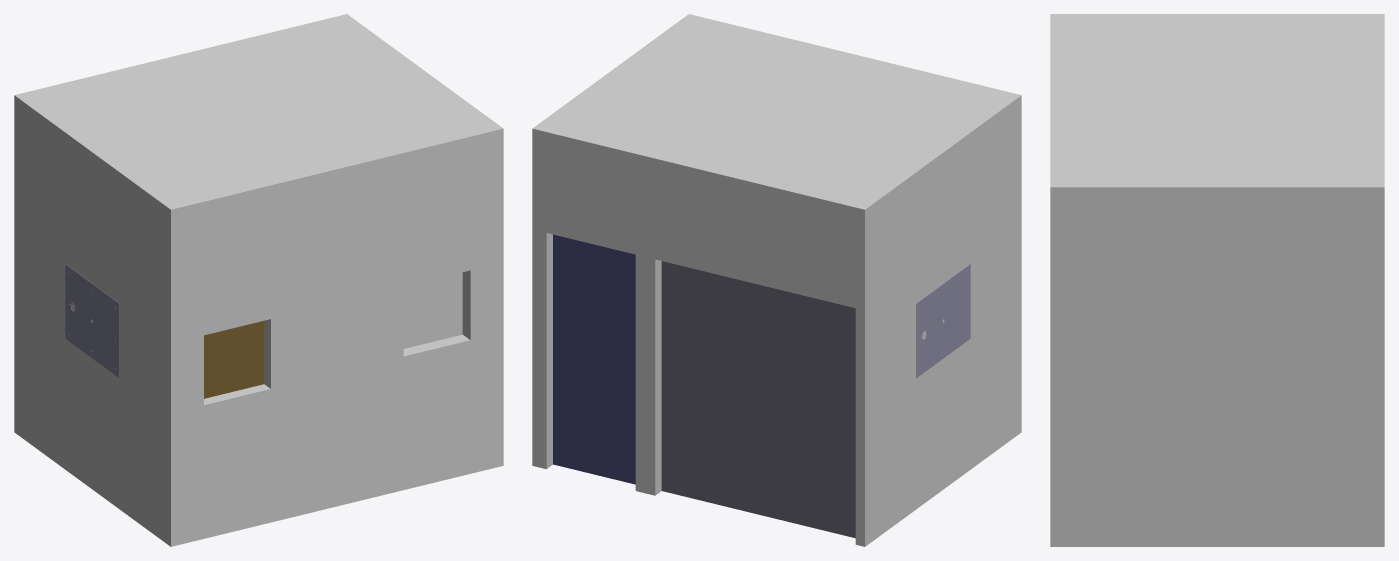
File: assembly.glb
3 renders of one model, left to right at view 1: azimuth 30°, elevation 25°; view 2: azimuth 150°, elevation 25°; view 3: azimuth 270°, elevation 25°, orthographic. The views are drawn at different scales.
Parts seen in each view (by area): view 1: container_shell, ARC-PLT-CG, GRD-XFM-001; view 2: container_shell, GRD-LVS-001, GRD-SWG-001, ARC-PLT-CG; view 3: container_shell.
Boxes of the visible parts, x1,y1,x2,y2 form: container_shell: (14,14,503,546); ARC-PLT-CG: (65,264,119,377); GRD-XFM-001: (204,321,264,398); container_shell: (532,14,1021,546); GRD-LVS-001: (661,261,855,538); GRD-SWG-001: (553,234,635,484); ARC-PLT-CG: (916,264,970,377); container_shell: (1050,14,1384,546).
Size of the model in its own units: 2994 by 2896 by 2438.
